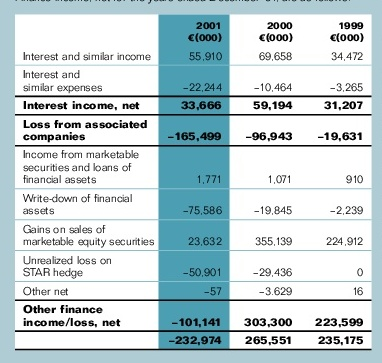table: (0, 0, 382, 363)
